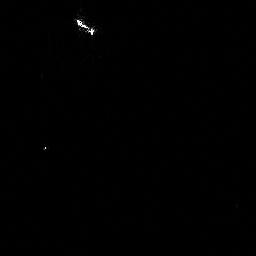ship: (72, 15, 100, 38)
